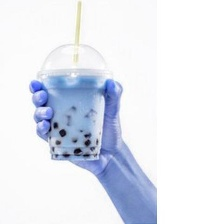drinking_straw: (67, 0, 90, 75)
glass: (31, 39, 115, 166)
